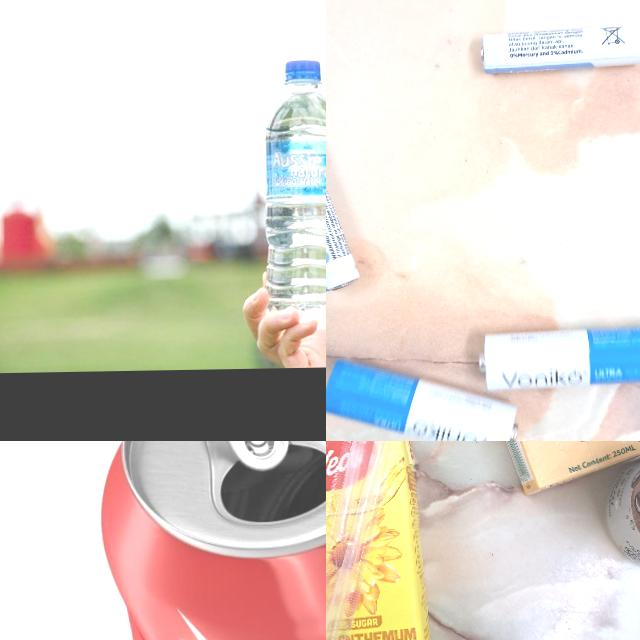aba de lata: (206, 441, 289, 471)
bateria: (326, 351, 519, 441), (476, 324, 640, 390), (476, 22, 640, 74), (326, 126, 360, 291)
caixinha: (326, 441, 439, 640)
garrafa plástica: (265, 80, 326, 331)
lata: (95, 441, 326, 640)
tampa plástica: (284, 58, 321, 85)
